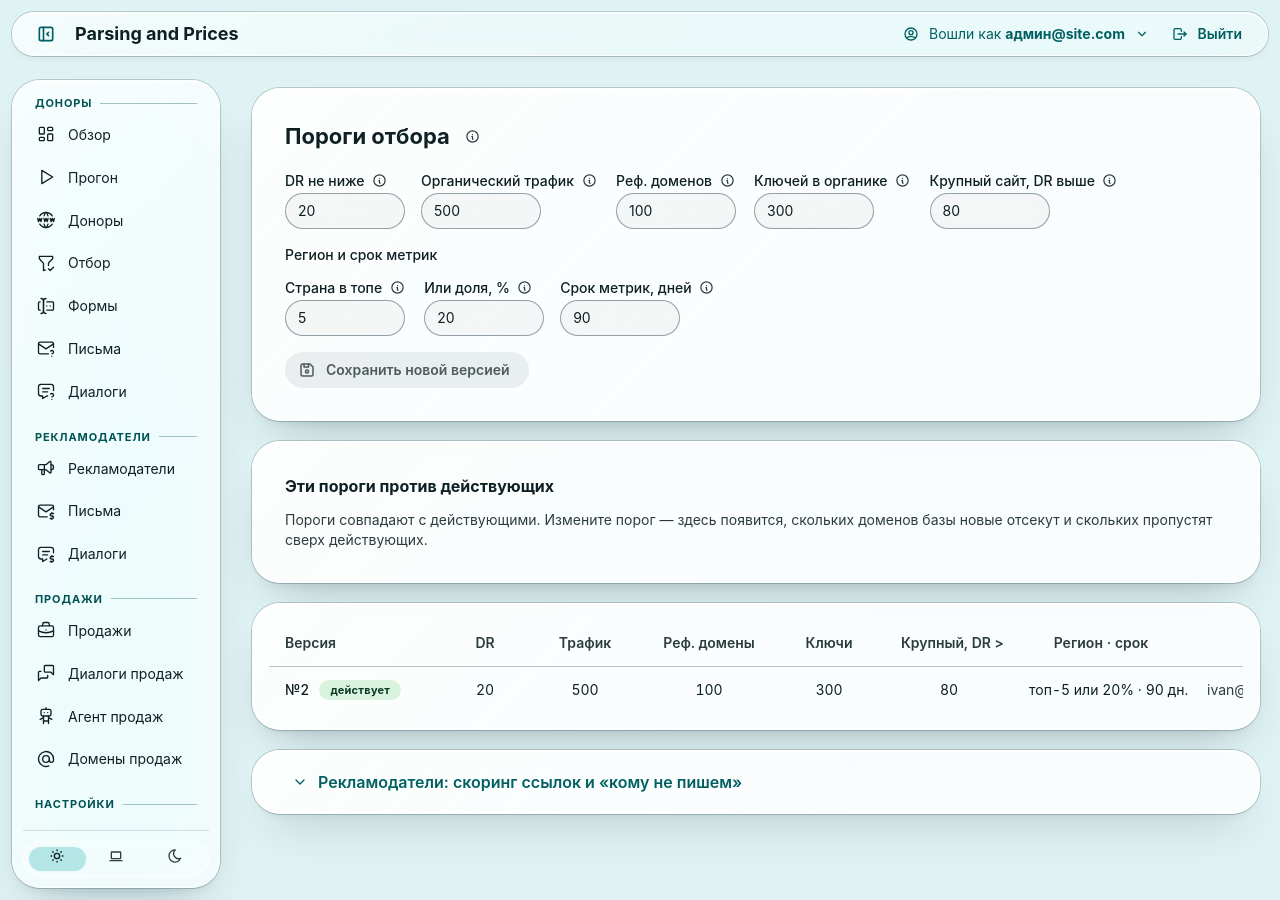
Test: пороги › сравнивает с действующими до сохранения и говорит, что посчитано
Expected: the heading "Пороги отбора" is shown, [285,121,450,152]
Step 1. Replace the text in the field named "DR не ниже" with "25" → (345, 211), box [285,193,405,229]
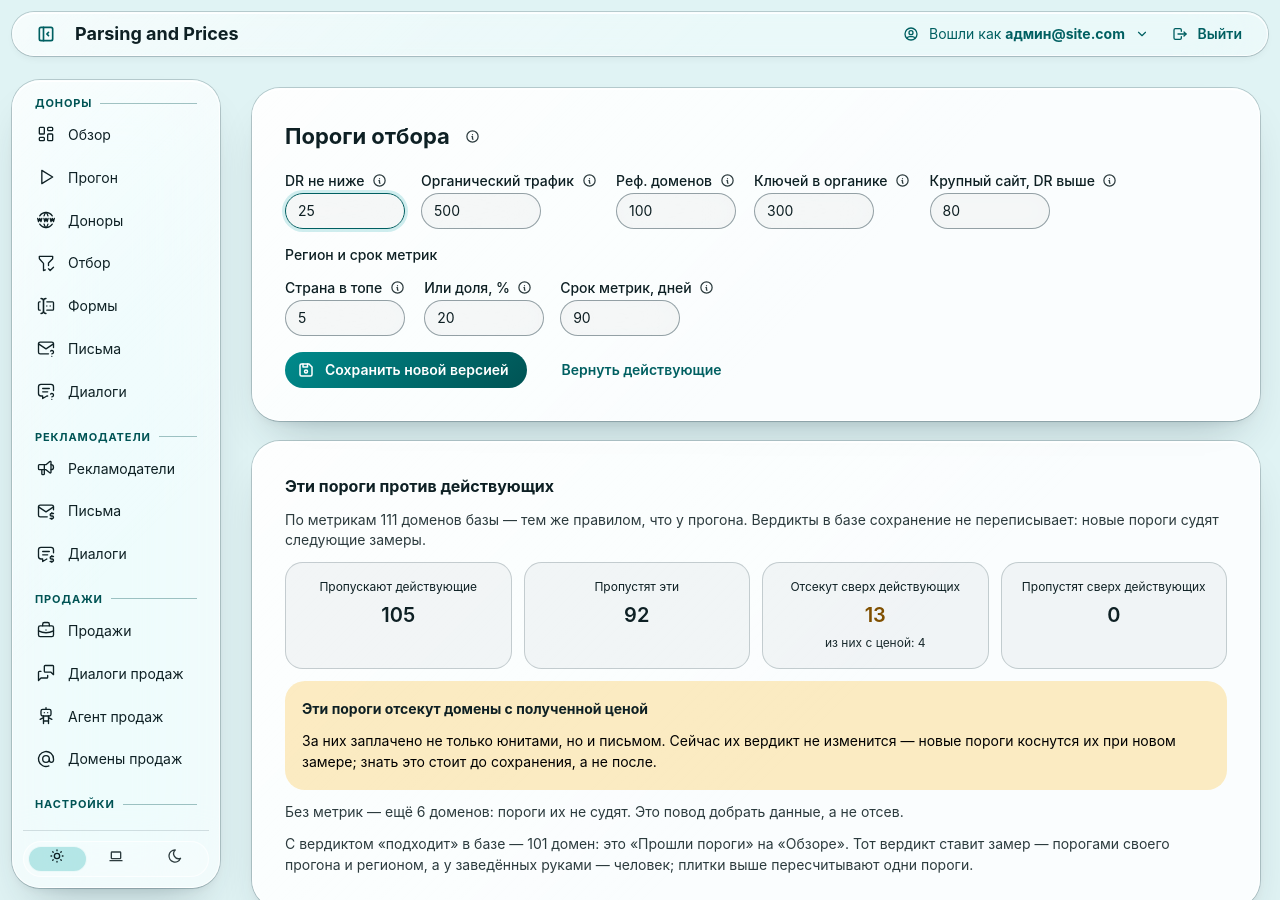
Now the text "13" is shown, box [865,600,886,631]
Now the text "По метрикам 111 доменов базы — тем же правилом" is shown, box [285,511,1219,548]
Now the text "из них с ценой: 4" is shown, box [825,635,926,652]
